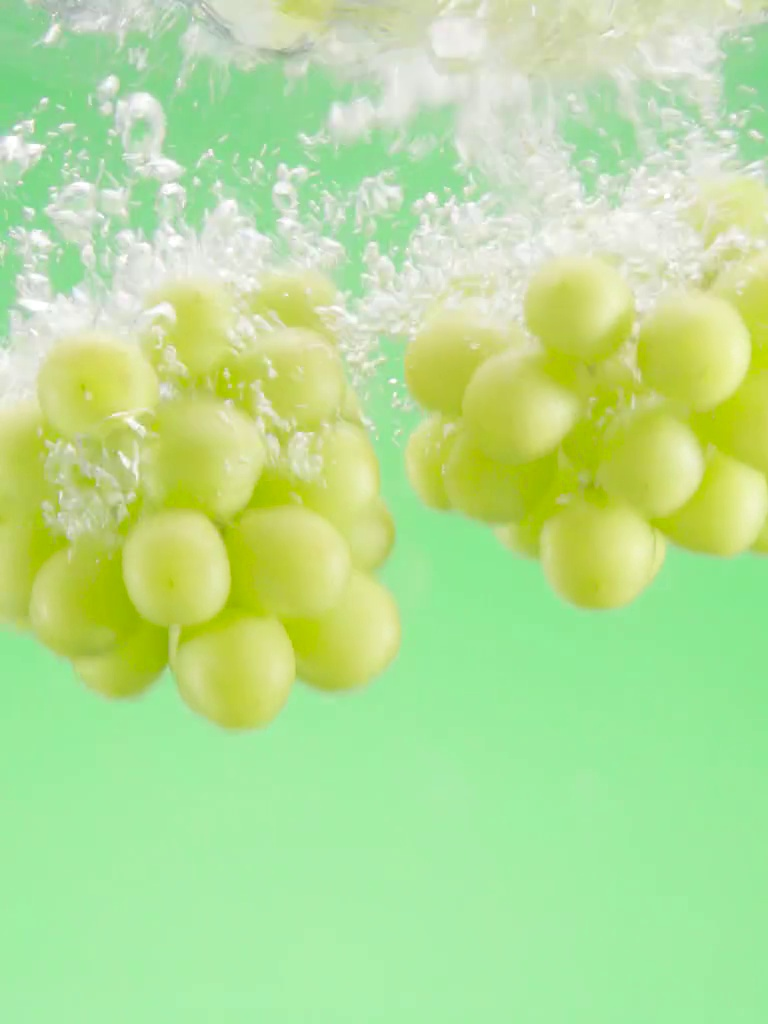grape: (1, 239, 403, 733), (410, 188, 768, 609)
